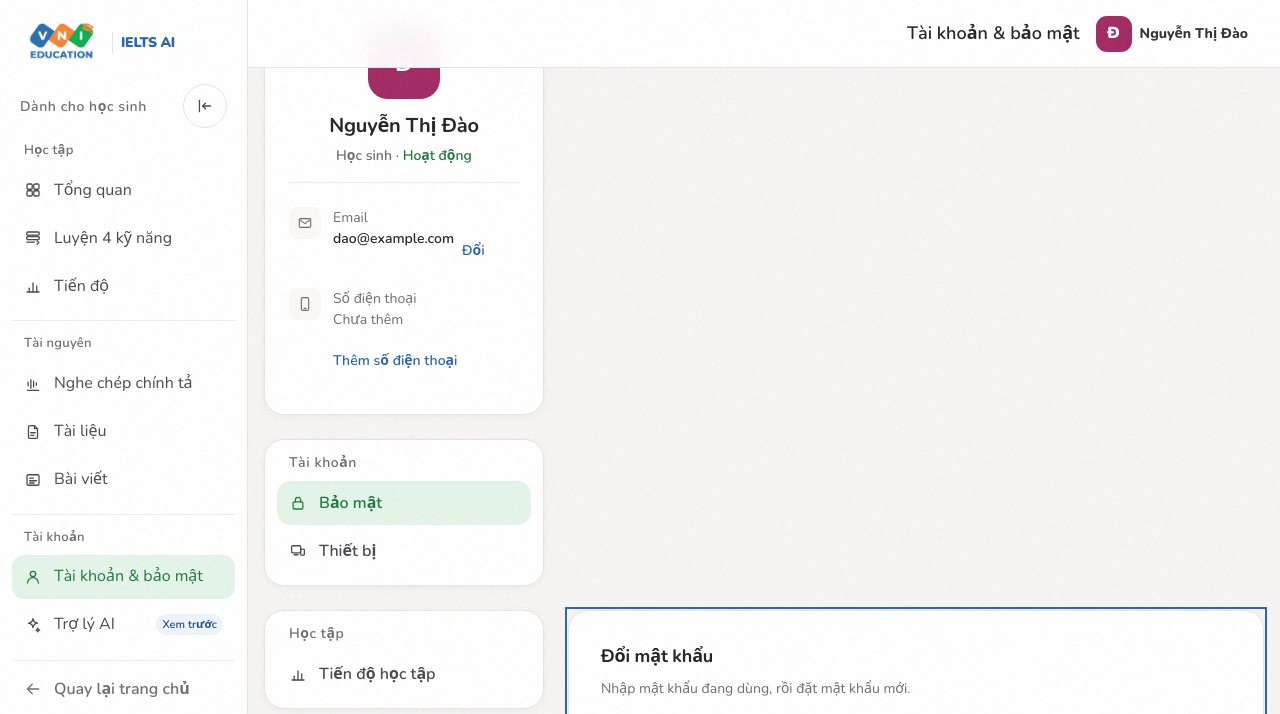
Test: adds a phone number and shows it the way it was written
The image size is (1280, 714).
(page scrolled)
Click the button "Thêm số điện thoại". click: [395, 360]
box: [333,338,457,382]
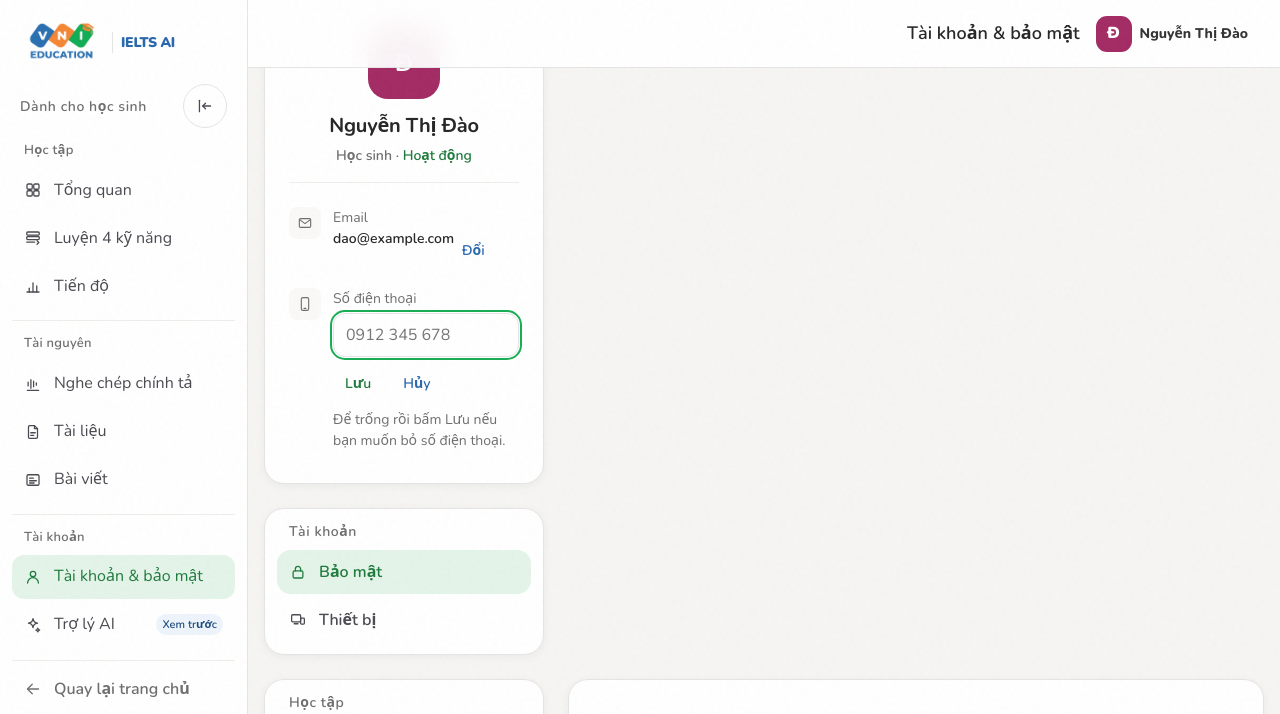
Type "091 234 5678" into the field named "số điện thoại". click: [426, 335]
box: [333,313,519,357]
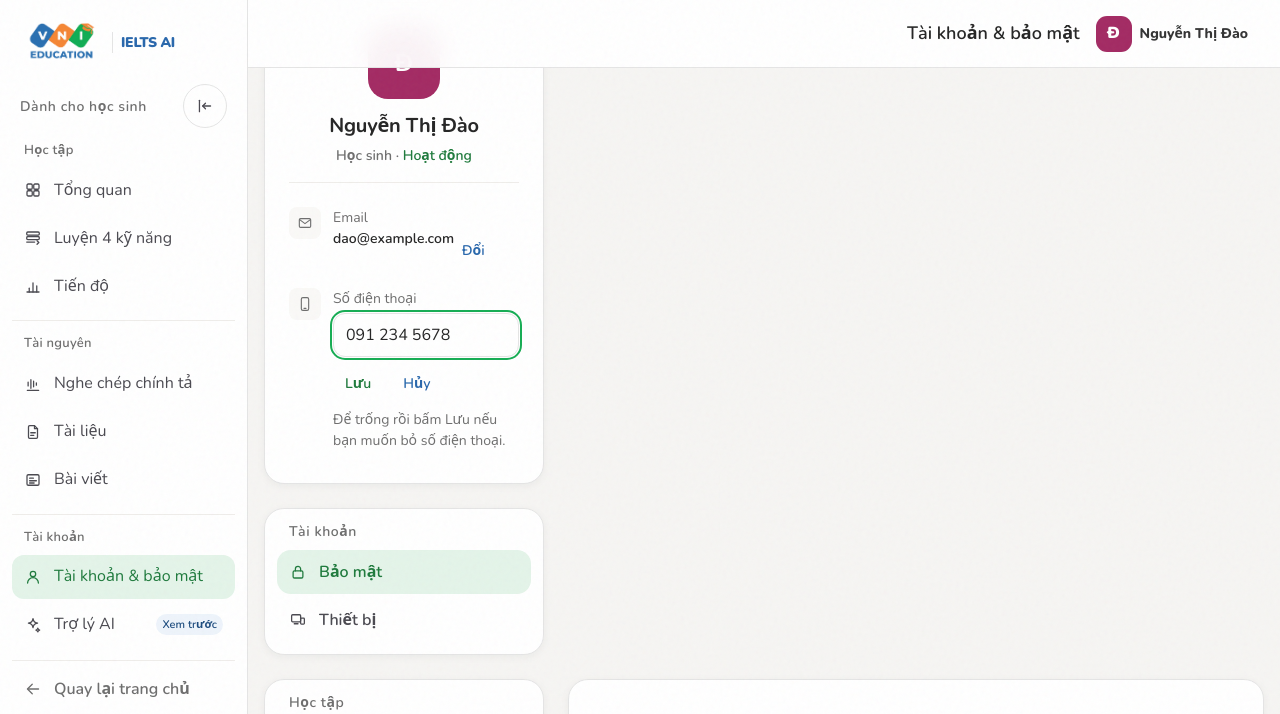
Click the button "Lưu". click: [358, 383]
box: [333,361,383,405]
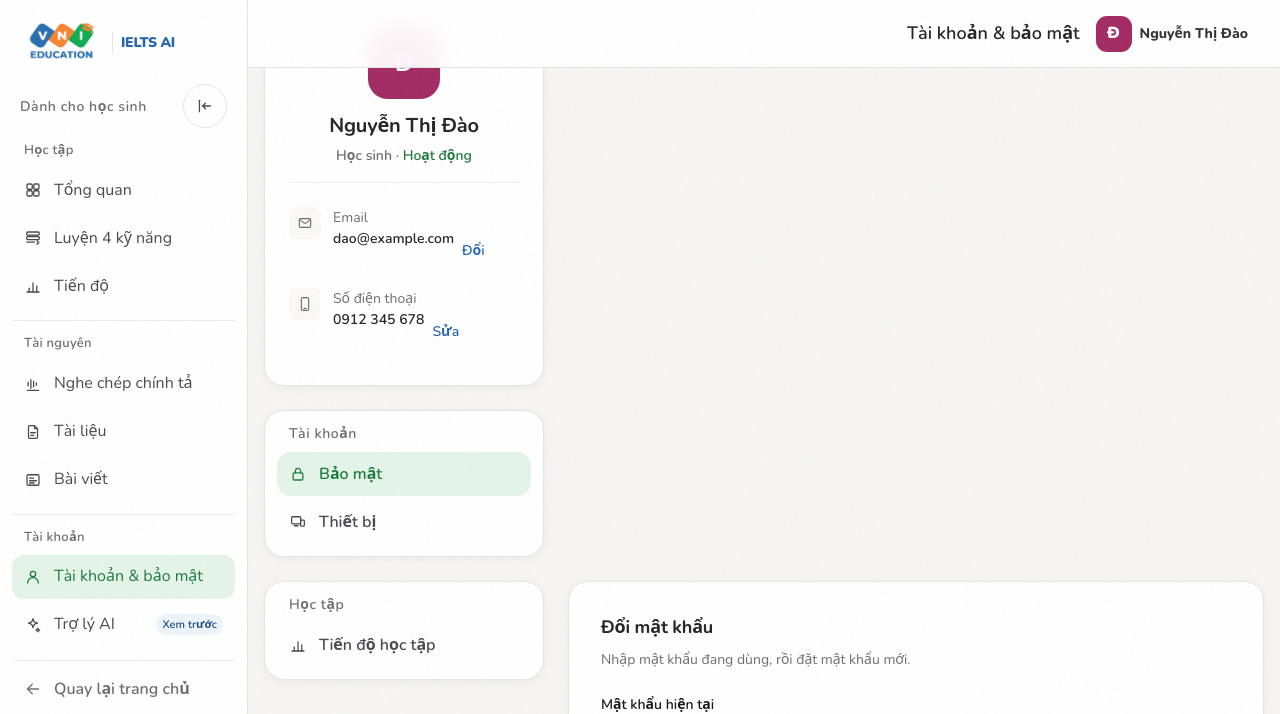
Expected: the text "0912 345 678" is shown, [333,309,424,330]
